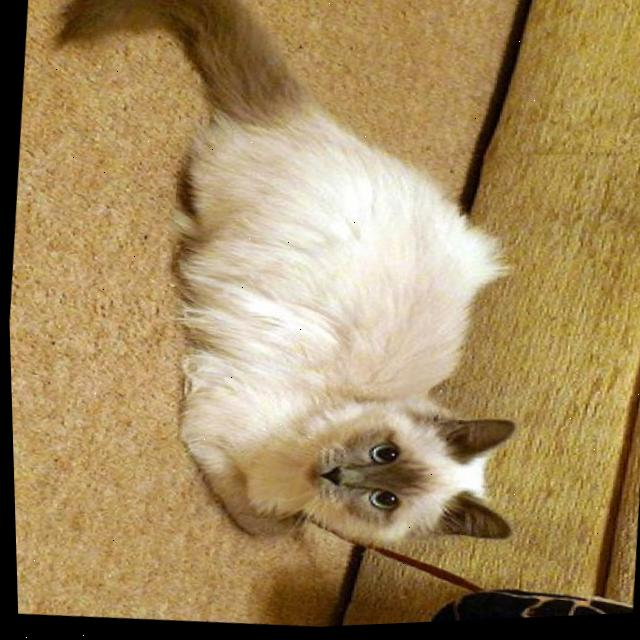Ragdoll: (8, 0, 564, 575)
